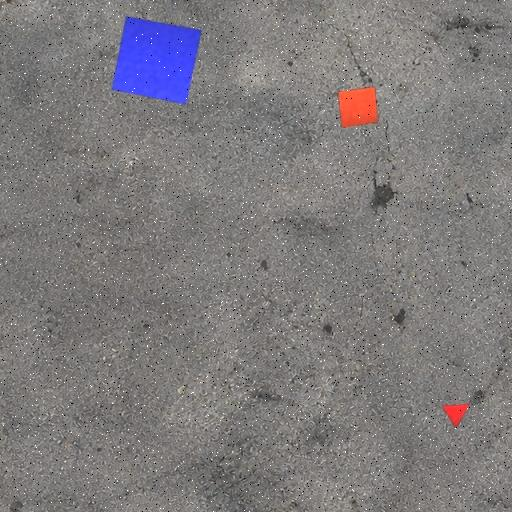BLUE_SQUARE: (112, 15, 202, 105)
RED_SQUARE: (338, 86, 379, 129)
